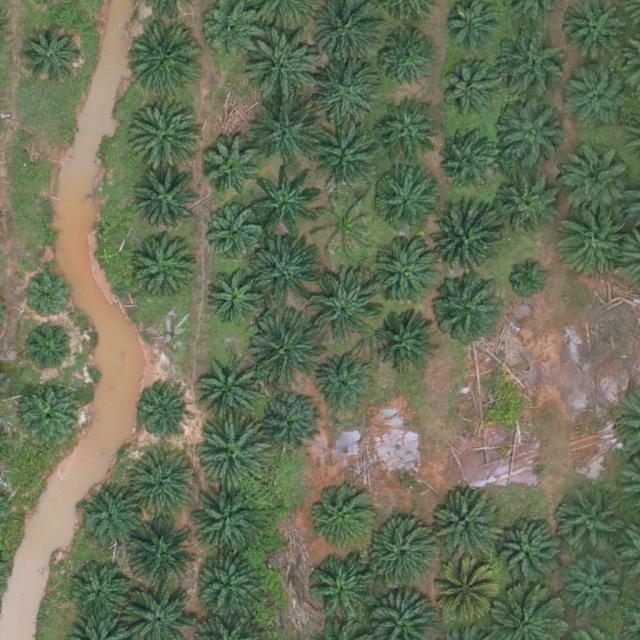Dead: (316, 192, 378, 255)
Healthy: (431, 205, 502, 276), (252, 236, 323, 307), (246, 32, 317, 103), (191, 488, 262, 559), (127, 448, 198, 519), (131, 22, 202, 93), (307, 557, 378, 627), (197, 548, 267, 619), (559, 62, 629, 133), (491, 519, 562, 589), (362, 519, 432, 590), (494, 100, 565, 170), (374, 237, 444, 308), (312, 56, 382, 127), (312, 127, 382, 198), (310, 271, 380, 342), (308, 480, 378, 551), (252, 315, 322, 386), (251, 165, 321, 236), (127, 516, 197, 587), (133, 168, 203, 239), (129, 99, 199, 170), (559, 137, 629, 207), (554, 208, 624, 278), (554, 488, 624, 558), (431, 492, 501, 562), (499, 27, 569, 97), (432, 278, 502, 348), (253, 94, 323, 164), (198, 349, 268, 419), (201, 420, 271, 490), (435, 132, 498, 195), (204, 263, 267, 326), (19, 26, 82, 89), (80, 486, 143, 549), (69, 561, 131, 624), (374, 311, 437, 373), (500, 174, 562, 237), (377, 105, 439, 168), (372, 169, 435, 231), (258, 391, 320, 454), (202, 203, 264, 266), (135, 236, 197, 299), (18, 381, 80, 444), (314, 357, 376, 419), (200, 136, 262, 198), (443, 61, 498, 116), (378, 33, 433, 88), (135, 382, 190, 437), (22, 321, 77, 376), (566, 565, 620, 620)
Small: (24, 275, 71, 322), (506, 255, 553, 302)
Yellow: (434, 564, 496, 626)
